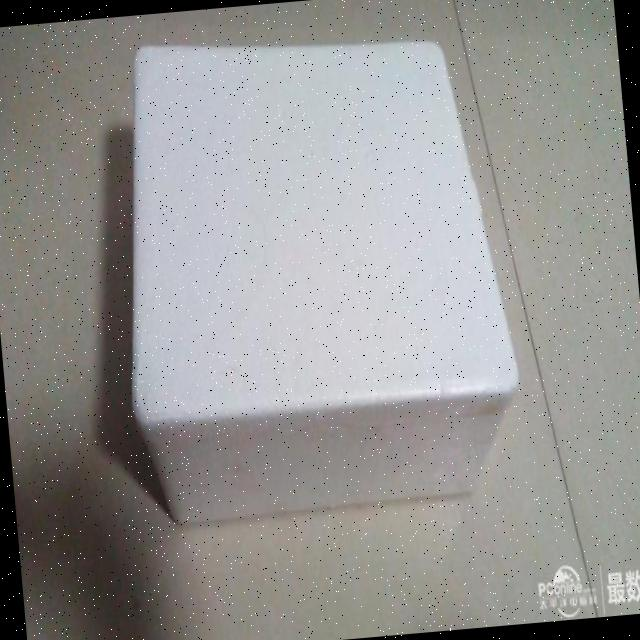styrofoam: (98, 12, 530, 530)
